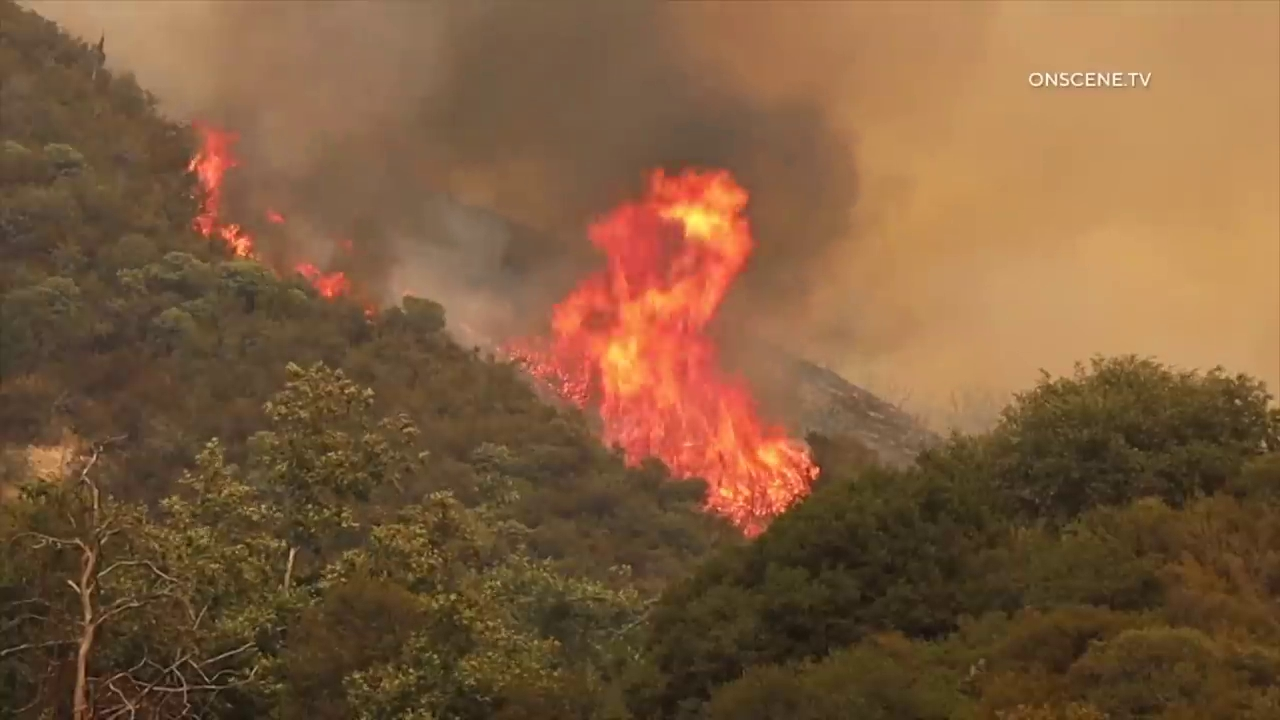forest_fire: (502, 169, 817, 534), (189, 126, 254, 257), (295, 263, 350, 297)
